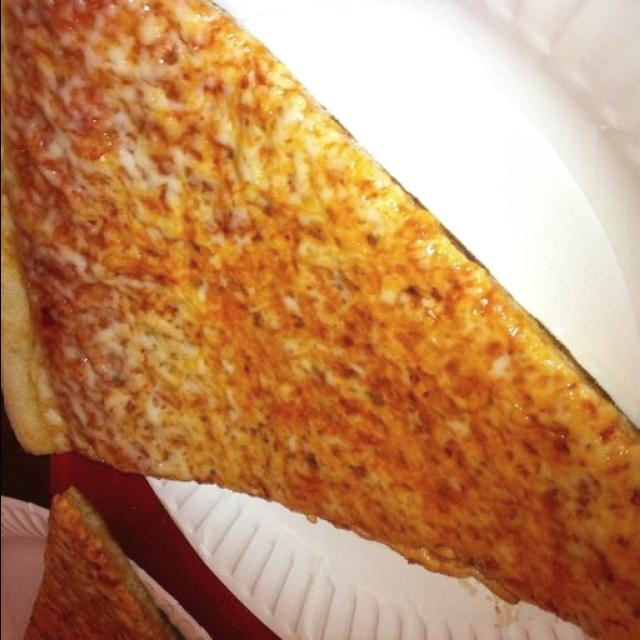pizza: (3, 0, 638, 640)
